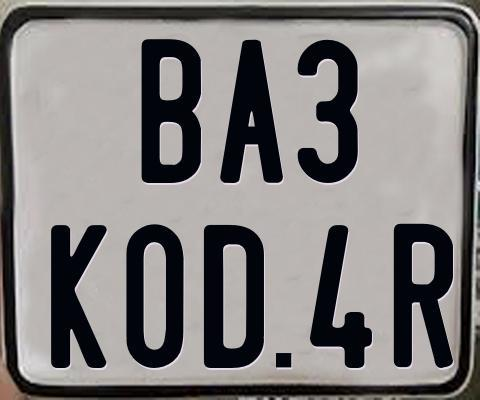0: (126, 221, 186, 367)
3: (295, 40, 360, 187)
4: (308, 224, 374, 368)
A: (218, 39, 283, 188)
B: (138, 38, 199, 186)
D: (202, 224, 262, 372)
K: (49, 224, 106, 369)
R: (393, 222, 454, 368)
